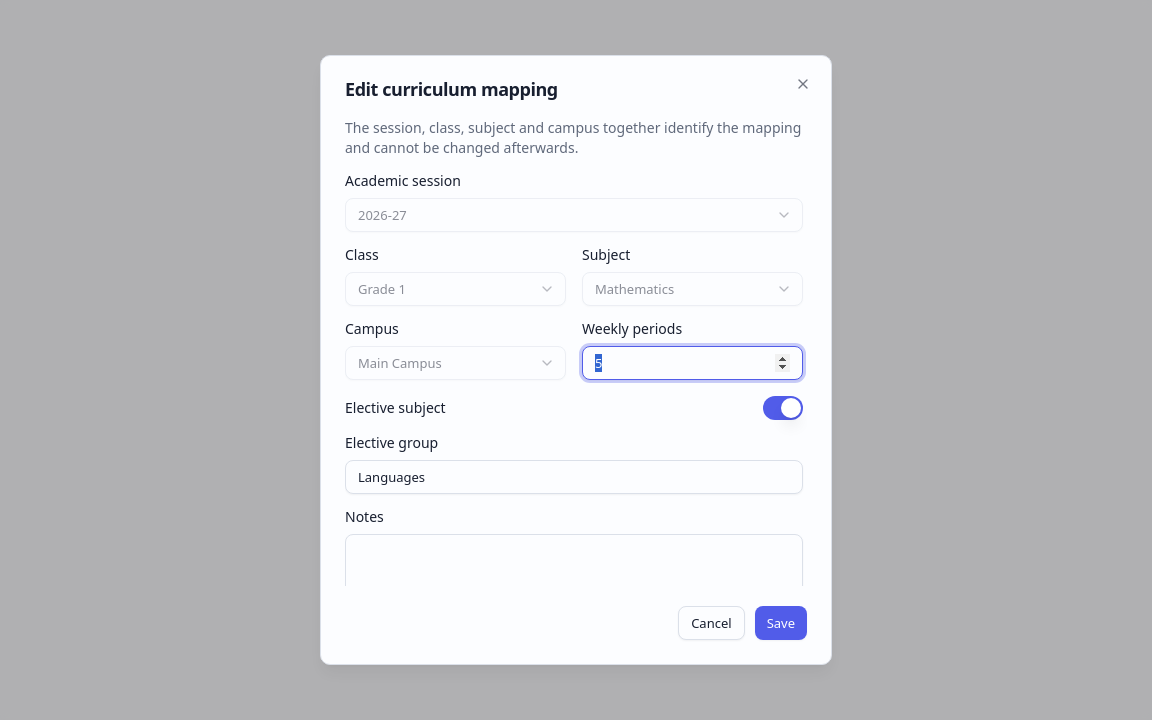
Scenario: CurriculumFormDialog › editing a mapping › when the server refuses to leave an elective group short of options › shows it as the form's own message once the switch is off, and stays open
What coordinates should you click on to do the following:
click the switch named "Elective subject"
I would click on:
 (783, 408)
Its box is x1=763 y1=396 x2=803 y2=420.
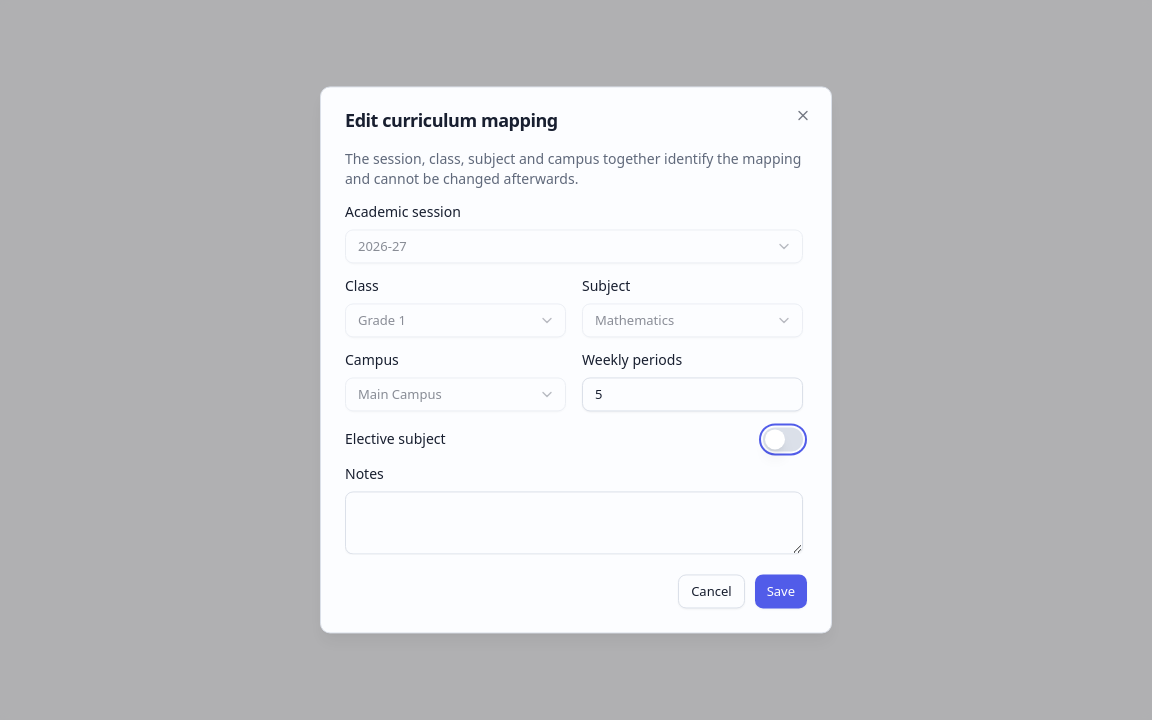
What coordinates should you click on to do the following:
click the button "Save"
I would click on:
 (781, 592)
Its box is x1=755 y1=575 x2=807 y2=609.
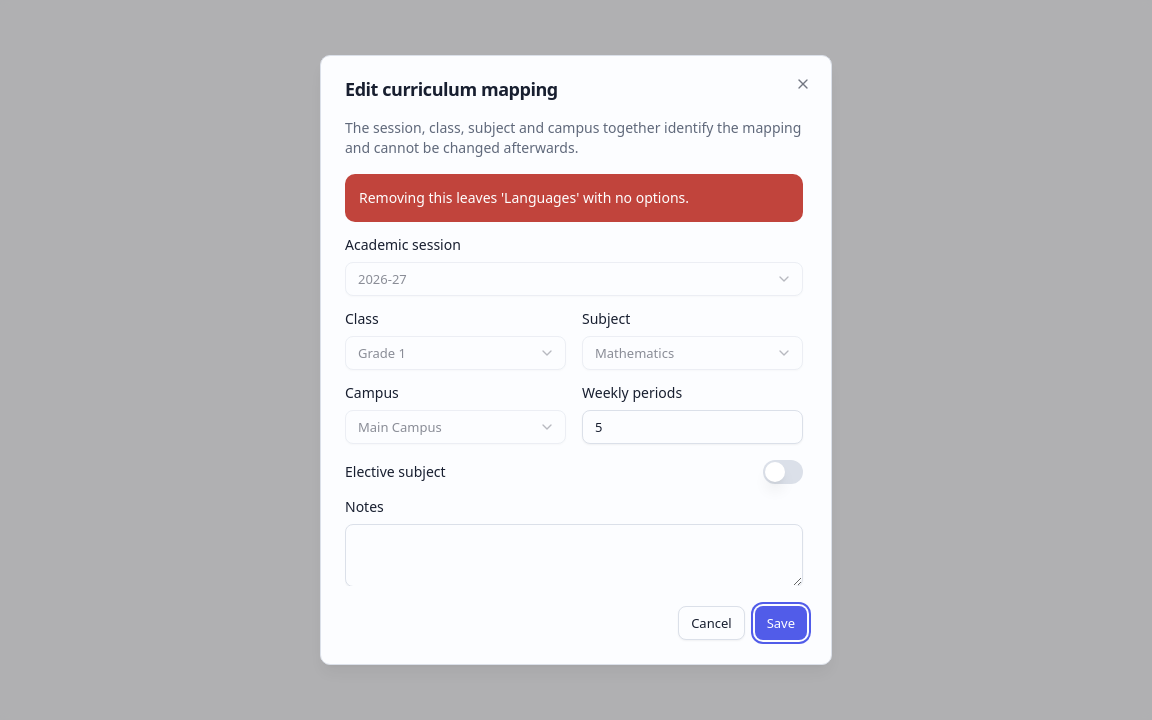
Expected: the label labelled "Elective group" is not shown
Now the text "Removing this leaves 'Languages' with no options." is shown, box x1=345 y1=174 x2=803 y2=222
